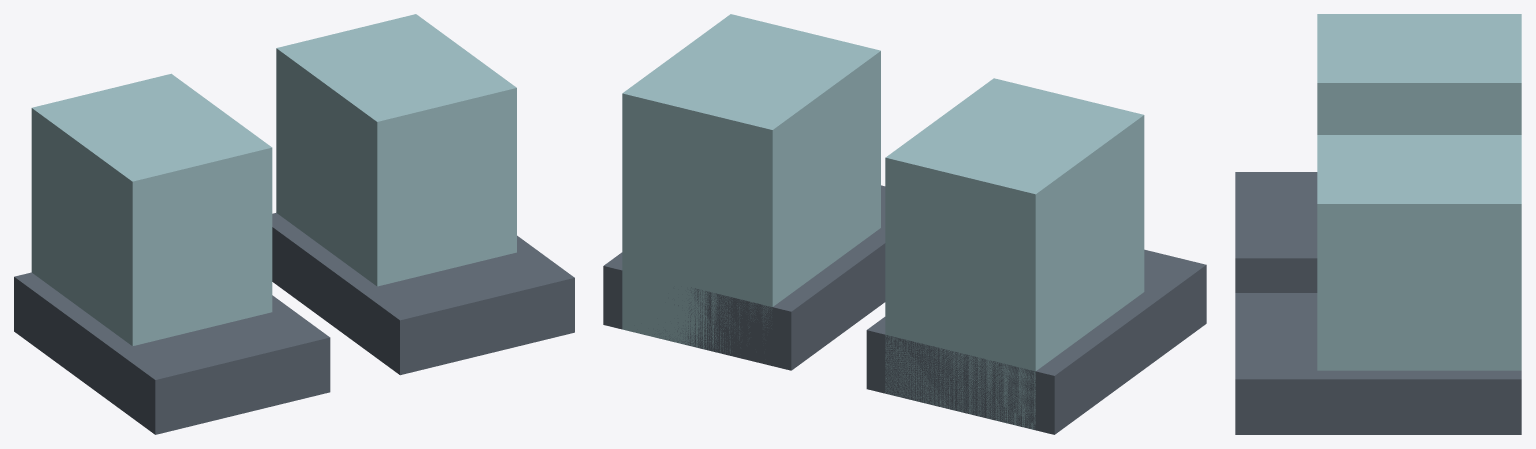
File: toy_robot_legs.glb
The picture shows the model from 3 angles, left to right: view 1: azimuth 30°, elevation 25°; view 2: azimuth 150°, elevation 25°; view 3: azimuth 270°, elevation 25°; orthographic projection. The views are drawn at different scales.
Visible parts, largest first — view 1: Leg.-1, Foot.-1; view 2: Leg.-1, Foot.-1; view 3: Leg.-1, Foot.-1.
Boxes of the visible parts, x1=… form: Leg.-1: x1=31, y1=14, x2=516, y2=346; Foot.-1: x1=14, y1=213, x2=574, y2=434; Leg.-1: x1=622, y1=14, x2=1144, y2=430; Foot.-1: x1=603, y1=185, x2=1206, y2=434; Leg.-1: x1=1317, y1=14, x2=1521, y2=370; Foot.-1: x1=1235, y1=172, x2=1521, y2=434.
Size of the model in its own units: 0.24 by 0.12 by 0.14.
